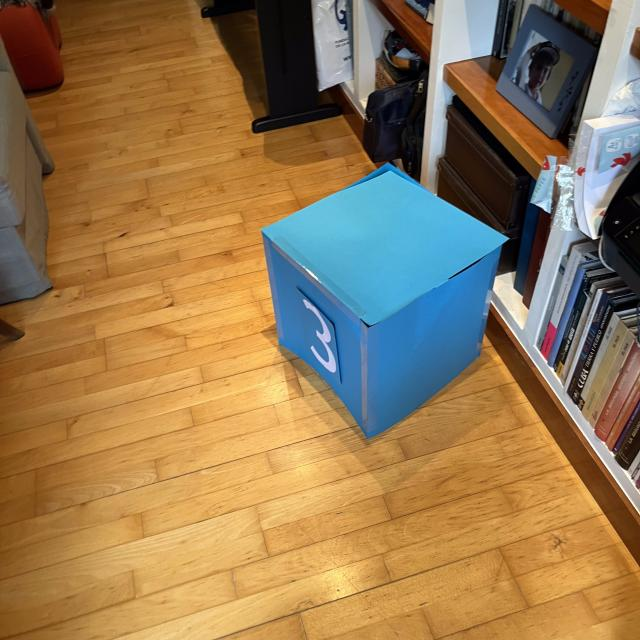box: (258, 160, 510, 440)
